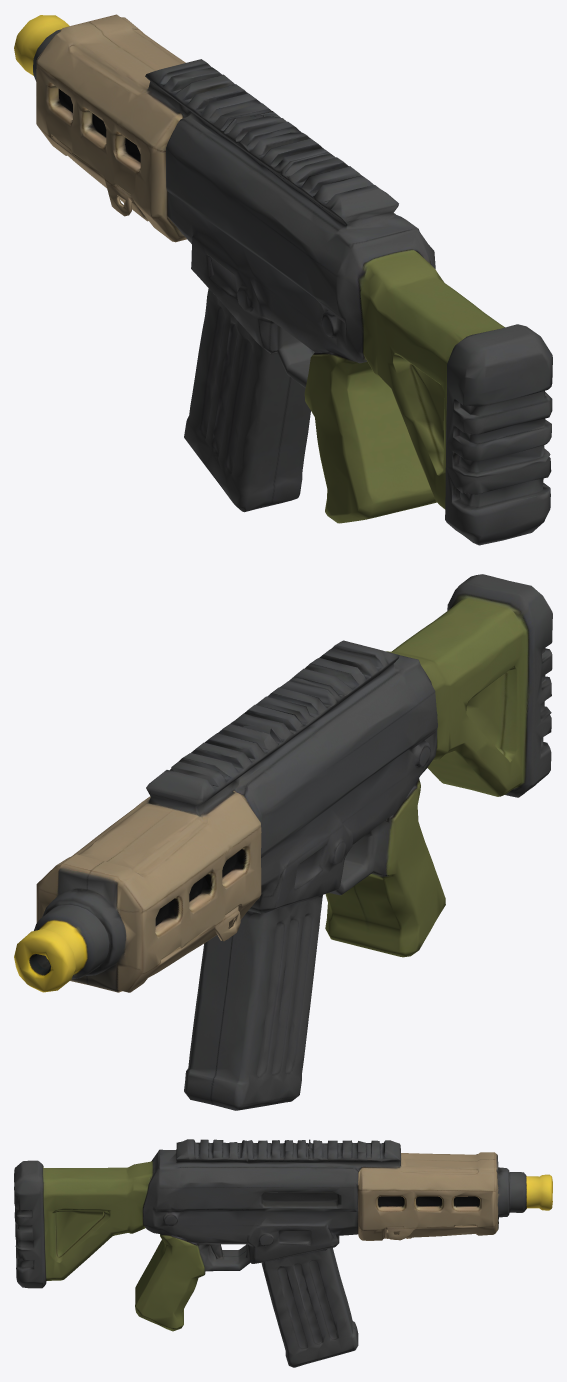
File: k47_tripo_raw.glb
The picture shows the model from 3 angles, top to bottom: view 1: azimuth 30°, elevation 25°; view 2: azimuth 150°, elevation 25°; view 3: azimuth 270°, elevation 25°; orthographic projection. The views are drawn at different scales.
Visible parts, largest first — view 1: tripo_node_1bbadbdf-4f4e-4825-a0f4-02a41891b269; view 2: tripo_node_1bbadbdf-4f4e-4825-a0f4-02a41891b269; view 3: tripo_node_1bbadbdf-4f4e-4825-a0f4-02a41891b269.
Part boxes in pixels (x1,y1,x2,y2): tripo_node_1bbadbdf-4f4e-4825-a0f4-02a41891b269: [14, 14, 552, 545]; tripo_node_1bbadbdf-4f4e-4825-a0f4-02a41891b269: [14, 574, 552, 1110]; tripo_node_1bbadbdf-4f4e-4825-a0f4-02a41891b269: [14, 1139, 552, 1367].
Bounding box in the file's own units: 0.1357 × 0.443 × 1.
1 material, 1 textured.
